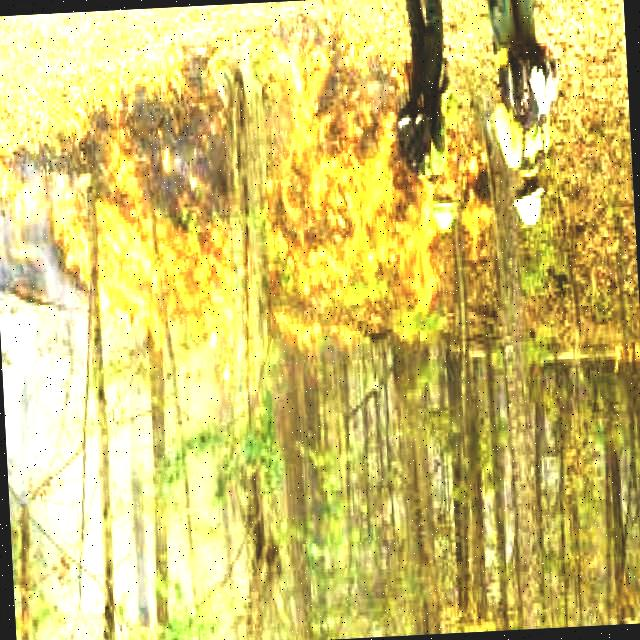api: (57, 65, 448, 340)
